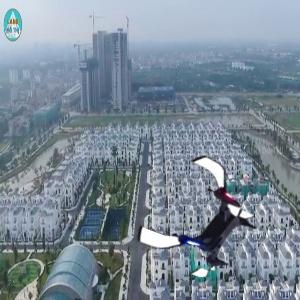drone: (142, 156, 265, 279)
